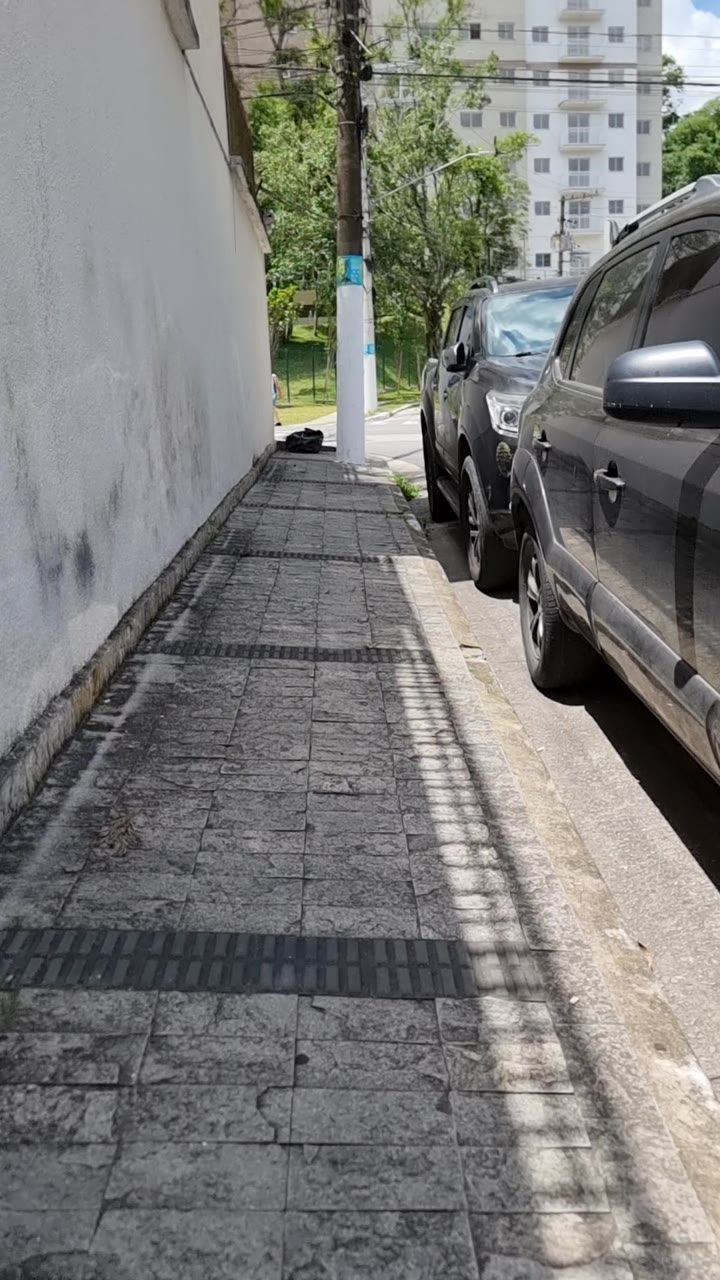obstaculo: (338, 0, 374, 474)
